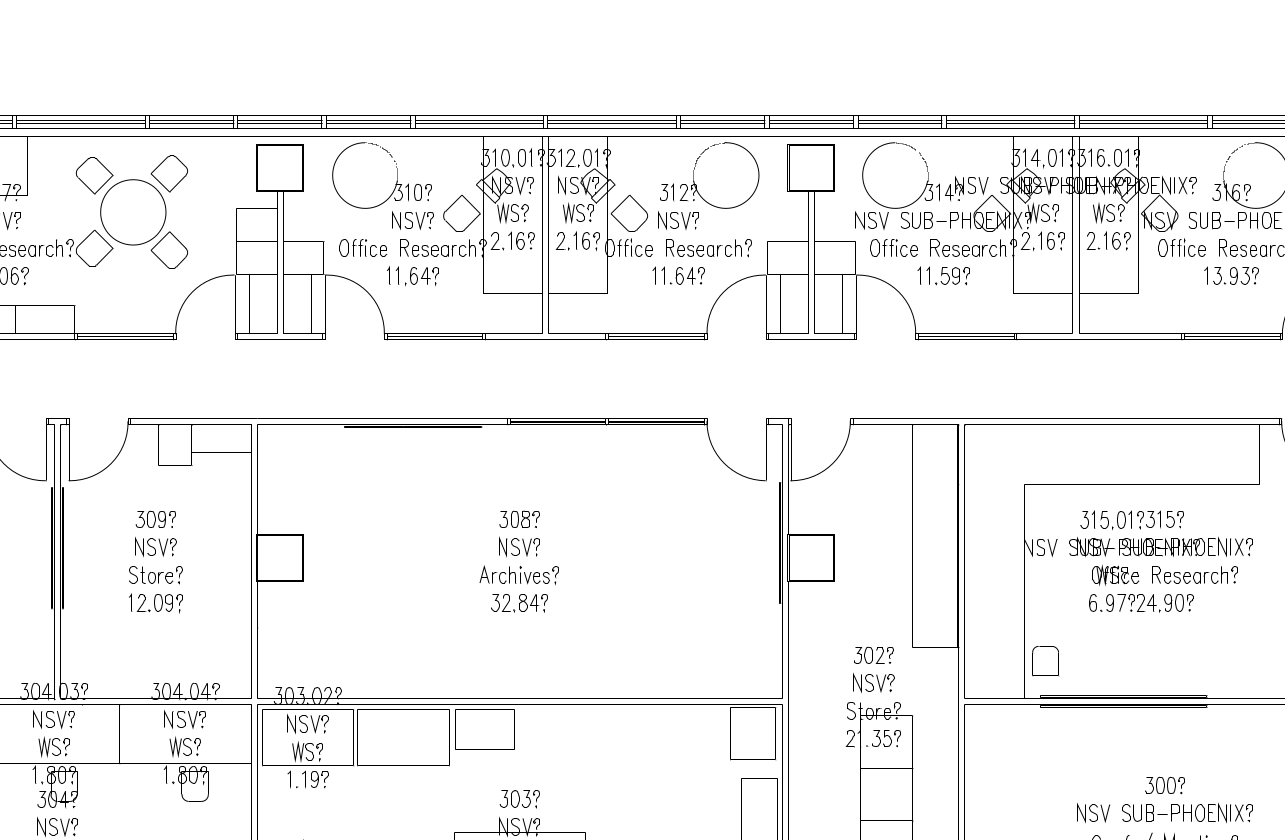door: (65, 421, 132, 485), (320, 276, 387, 340), (174, 272, 241, 336), (702, 272, 769, 336), (849, 271, 916, 335), (789, 418, 856, 482), (703, 419, 770, 483)
